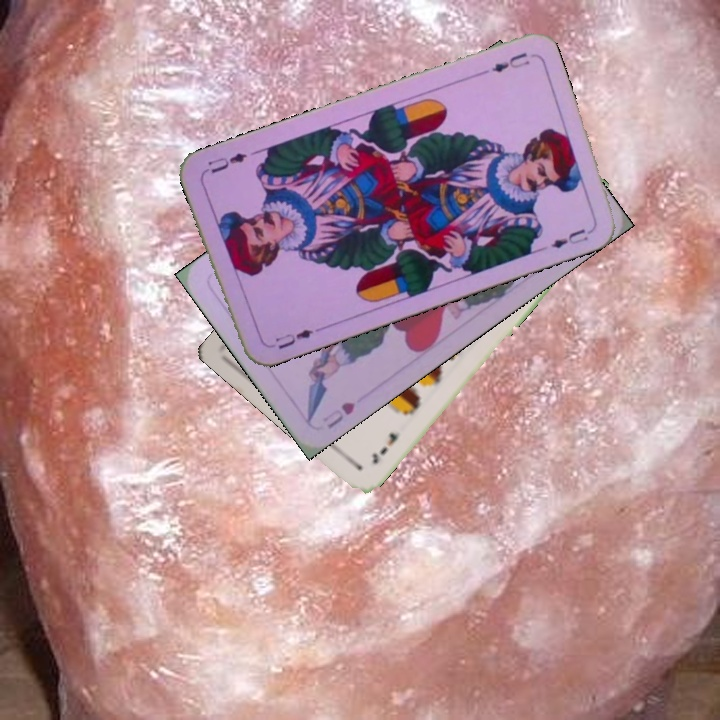E7: (367, 428, 401, 467)
EU: (265, 324, 323, 352), (487, 48, 532, 75)
HU: (323, 397, 359, 432)
